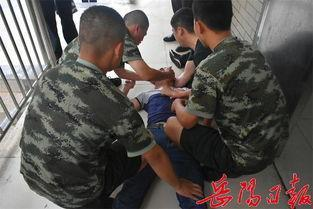Fall-Detected: (119, 50, 197, 202)
